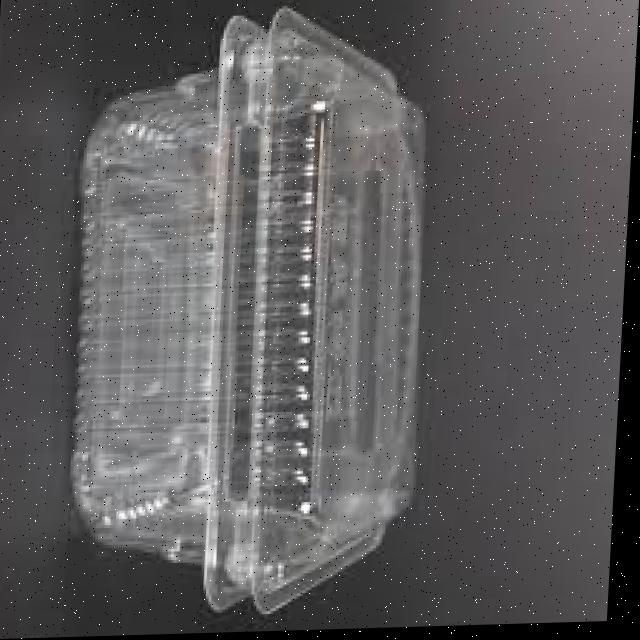disposable: (46, 5, 441, 634)
